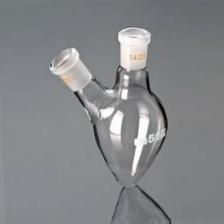Pear shaped flask: (31, 25, 172, 183)
